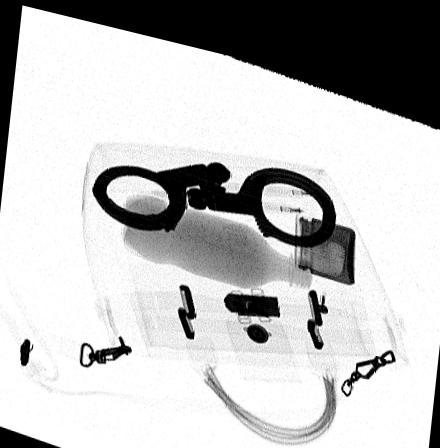HandCuffs: (88, 149, 337, 234)
